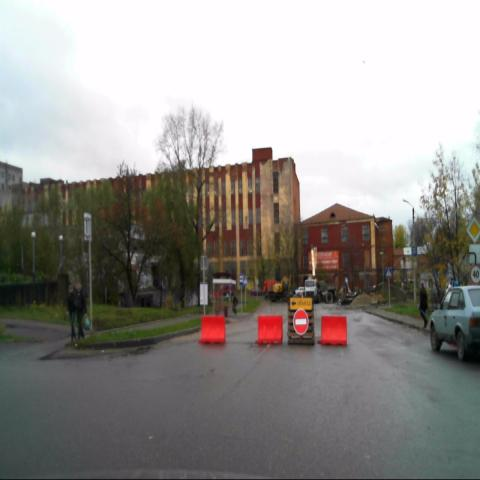3_1: (293, 308, 309, 337)
